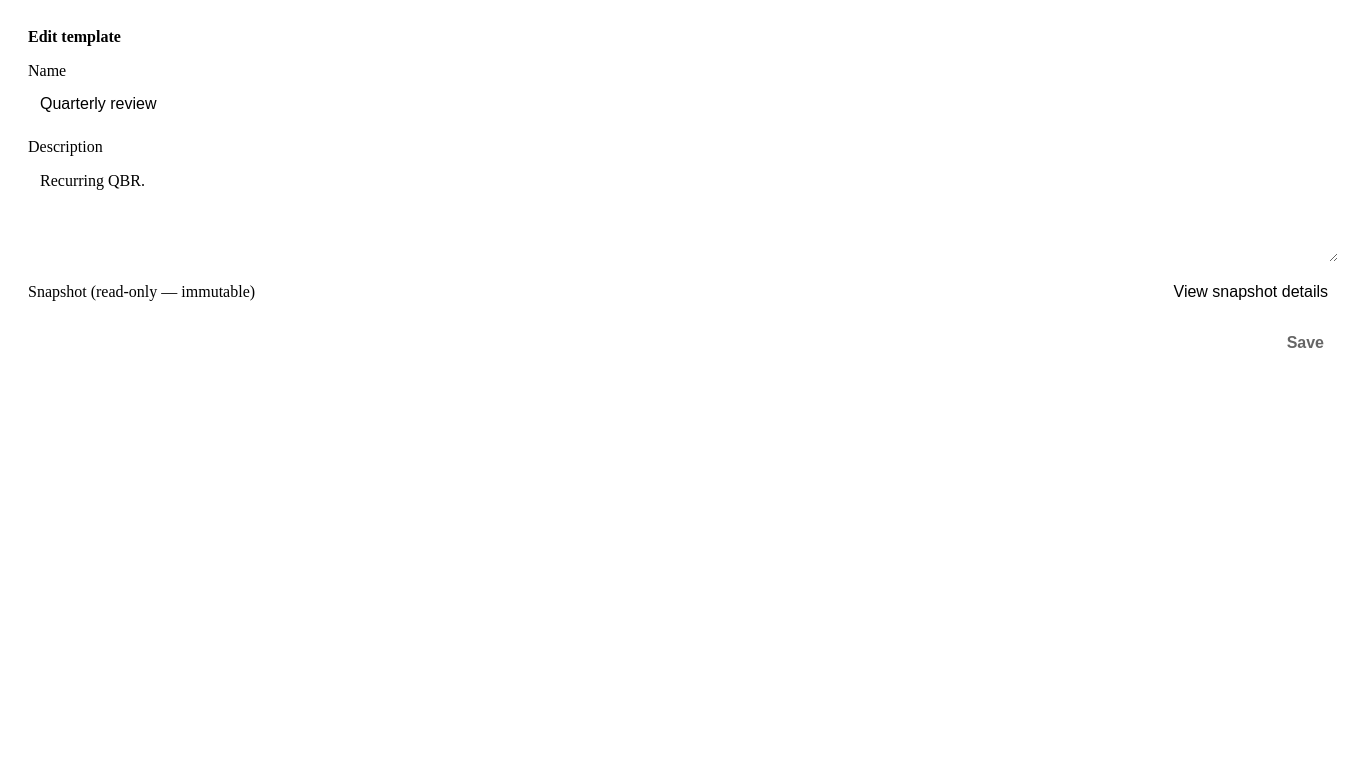
Test: TemplateEditor › toggles the snapshot preview body when the toggle is clicked
Click the button with test id "template-editor-snapshot-toggle".
click(1251, 292)  # box [1164, 278, 1338, 306]
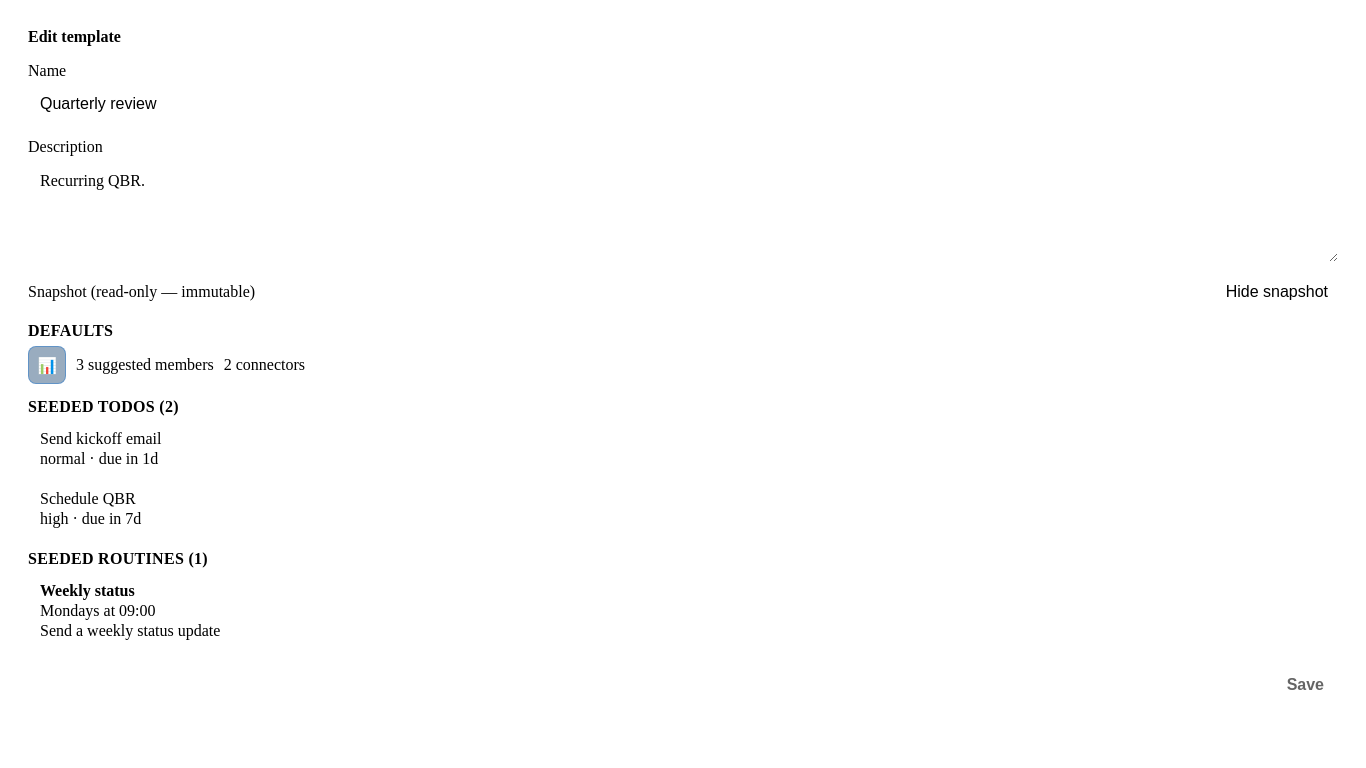
expect the element with test id "template-editor-snapshot-preview" is shown: met, box [28, 322, 305, 639]
Click the button with test id "template-editor-snapshot-toggle".
click(1277, 292)  # box [1216, 278, 1338, 306]
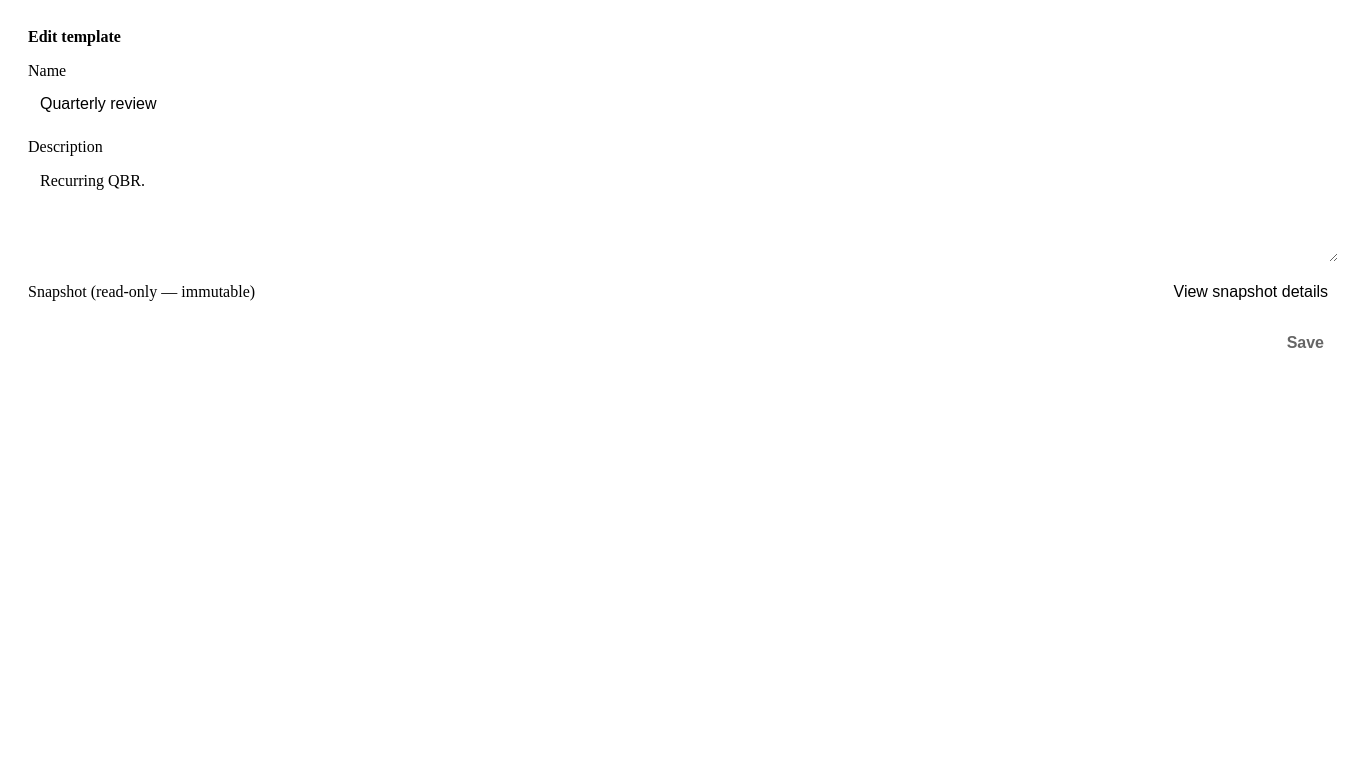
expect the element with test id "template-editor-snapshot-body" is gone: met
